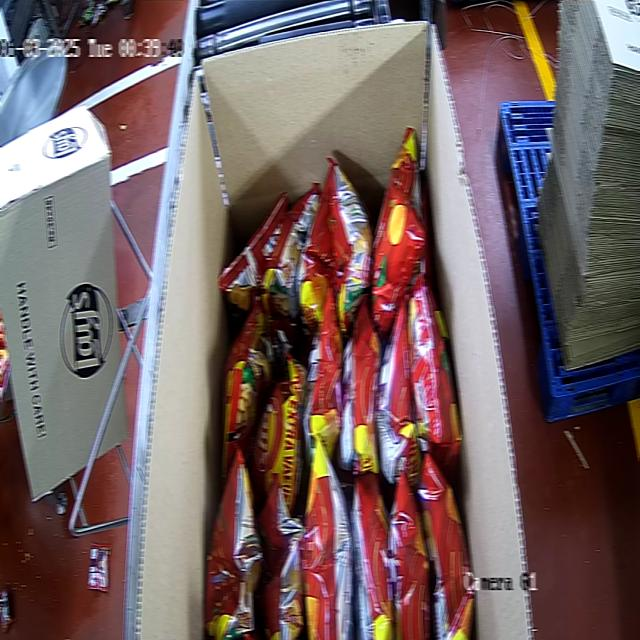MASALA: (204, 127, 476, 638)
